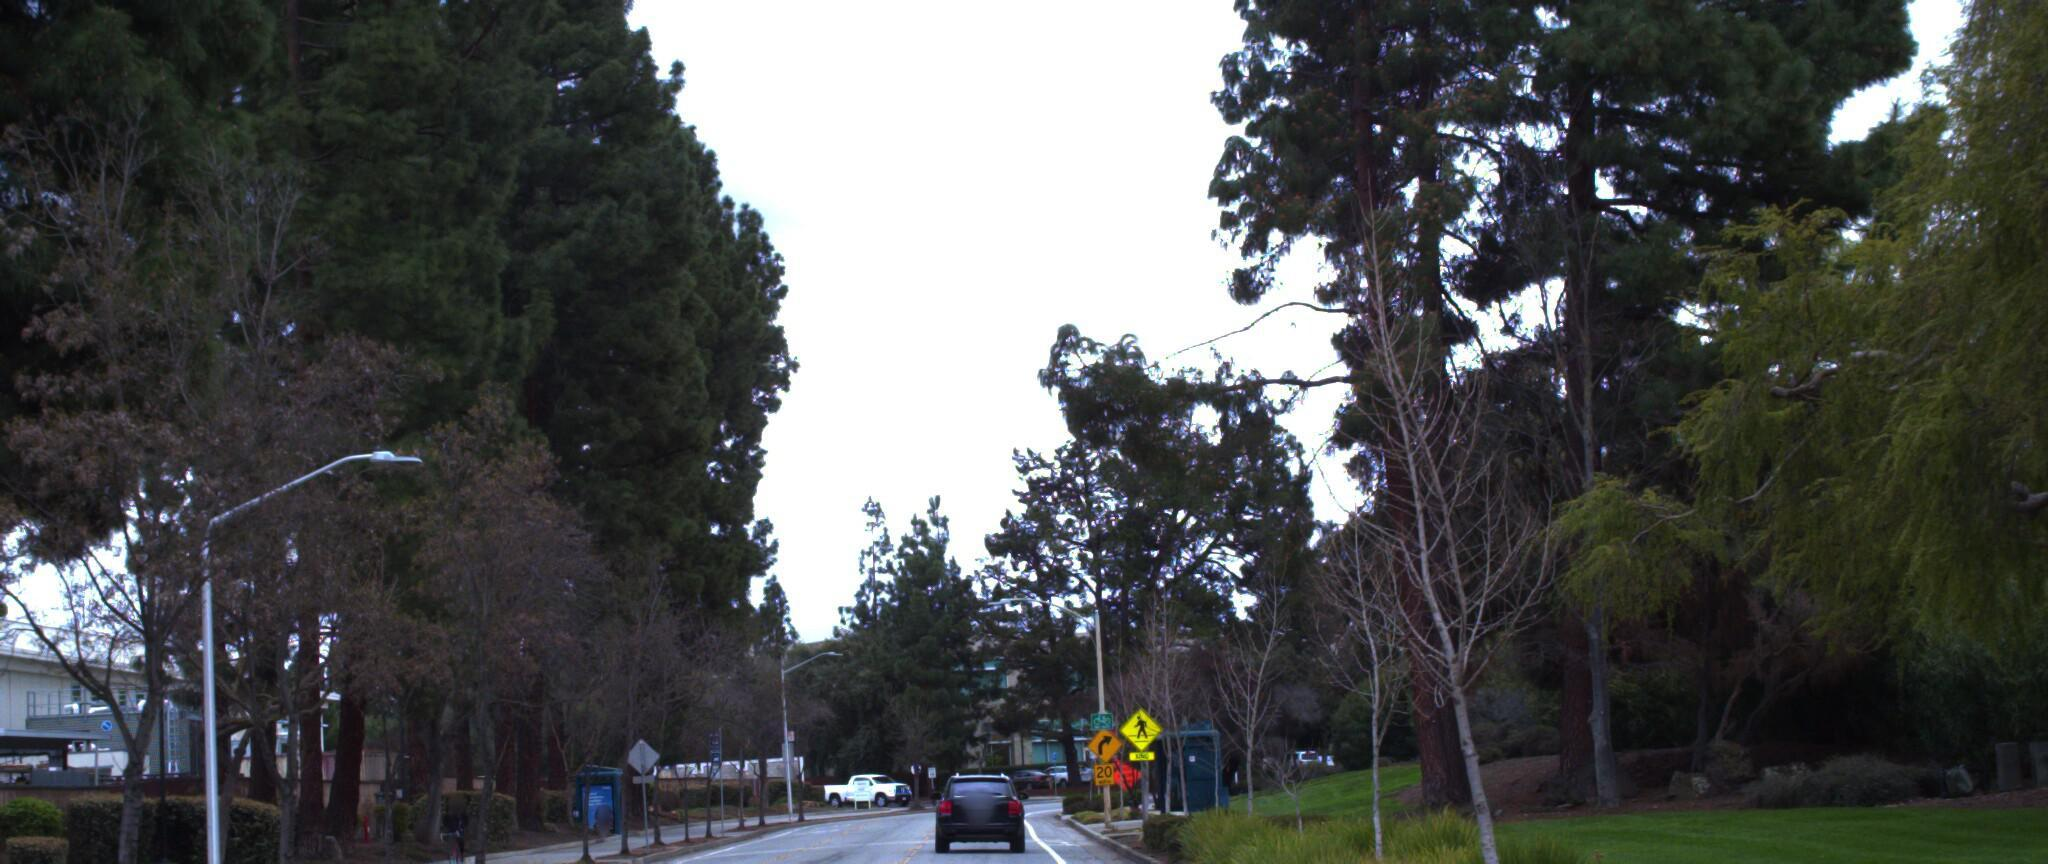car: (939, 750, 1032, 834)
